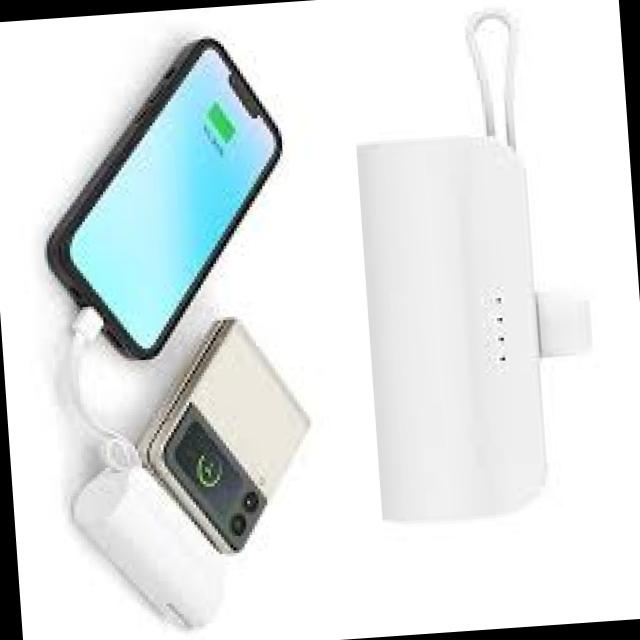portable-charger: (354, 126, 604, 530), (56, 453, 232, 640)
